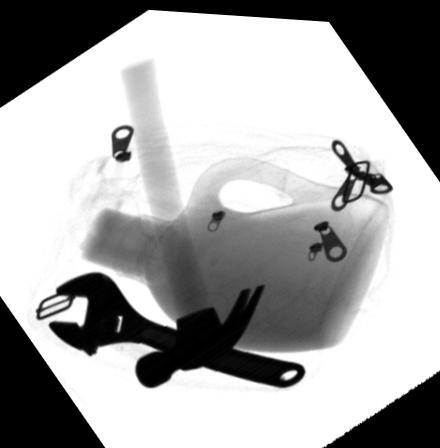Hammer: (117, 54, 264, 386)
Wrench: (45, 269, 307, 386)
